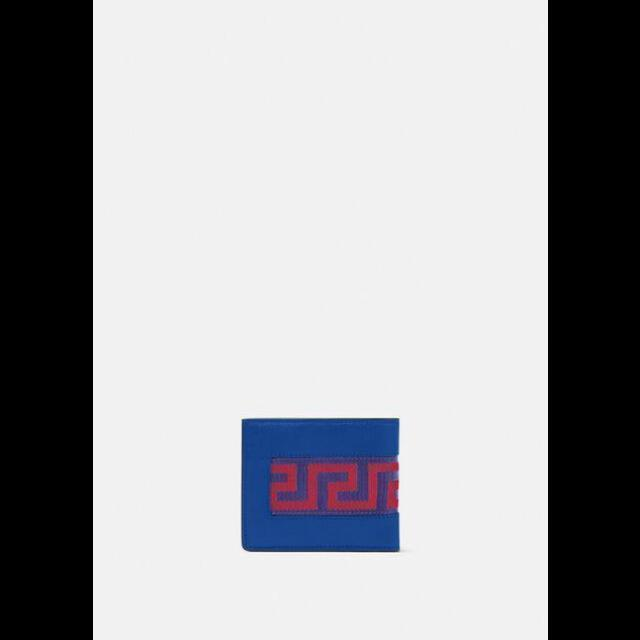wallet: (235, 409, 408, 557)
